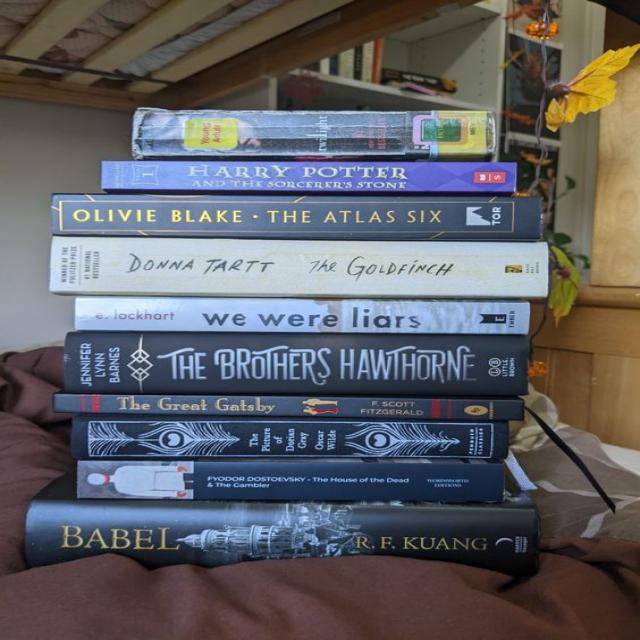book: (25, 501, 537, 573), (51, 235, 548, 296), (65, 335, 530, 393), (52, 193, 544, 242), (70, 416, 509, 460), (133, 109, 494, 158), (78, 461, 505, 500), (75, 299, 530, 334), (53, 393, 525, 420), (101, 162, 517, 192)
